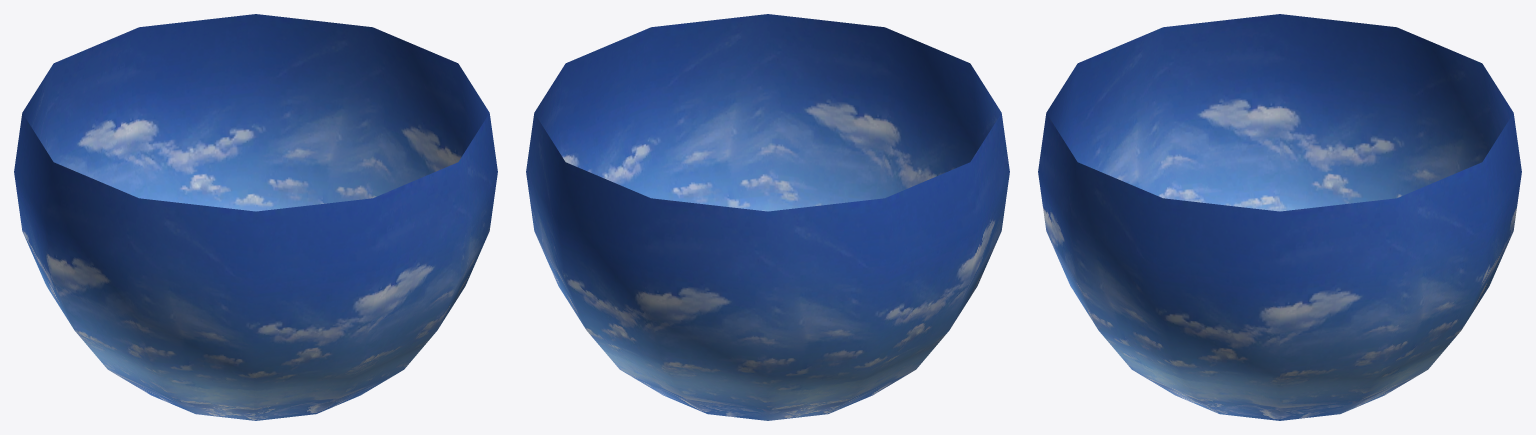
The model's file is tiankong.fbx.
3 renders of one model, left to right at view 1: azimuth 30°, elevation 25°; view 2: azimuth 150°, elevation 25°; view 3: azimuth 270°, elevation 25°, orthographic.
Visible parts, largest first — view 1: polySurface1; view 2: polySurface1; view 3: polySurface1.
Boxes of the visible parts, box(x1,y1,x2,y2) form: polySurface1: box(14, 14, 497, 420); polySurface1: box(526, 14, 1009, 420); polySurface1: box(1038, 14, 1521, 420).
Bounding box in the file's own units: 7.86 × 5.16 × 7.86.
